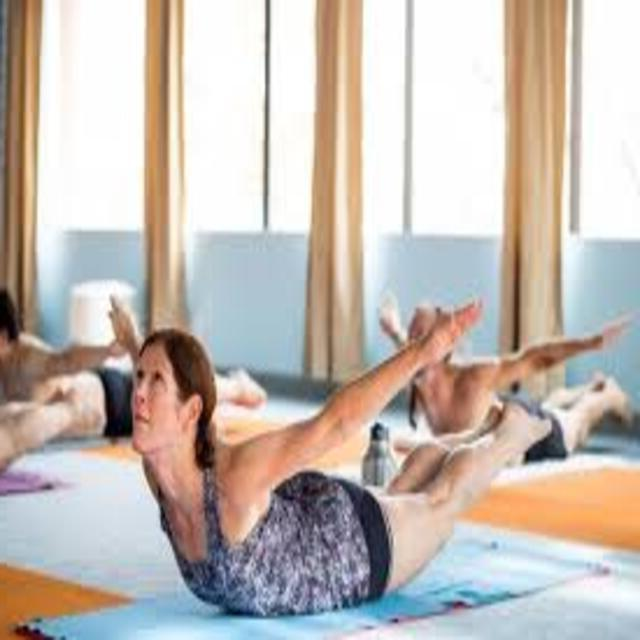Locust_Pose: (105, 293, 557, 614)
